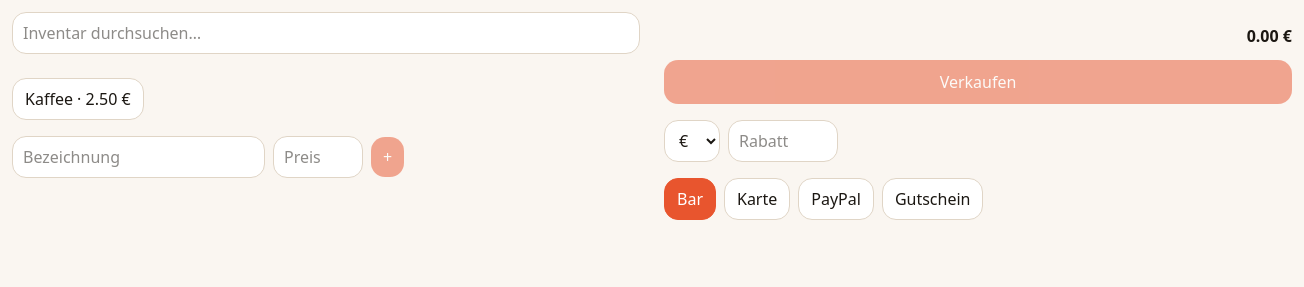
KasseScreen › reveals the voucher field only for gutschein payment
Click the button with test id "kasse-pay-gutschein" at [933, 199], box [882,178,984,220]
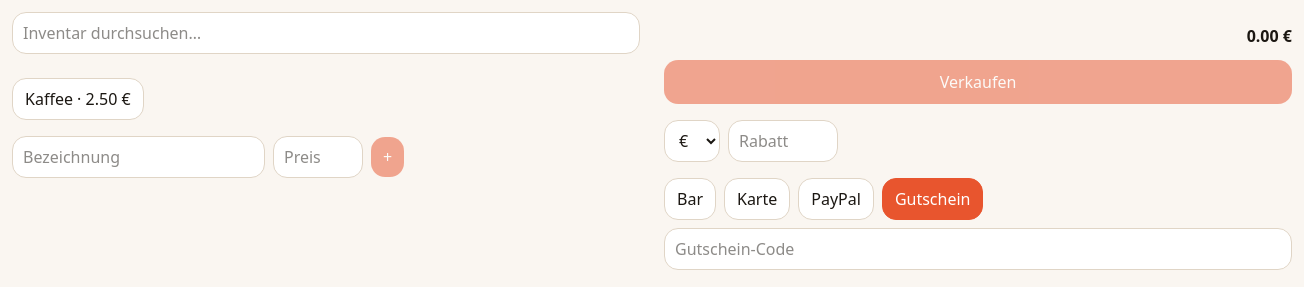
Now the field with test id "voucher-code-input" is shown, box [664,228,1292,270]
